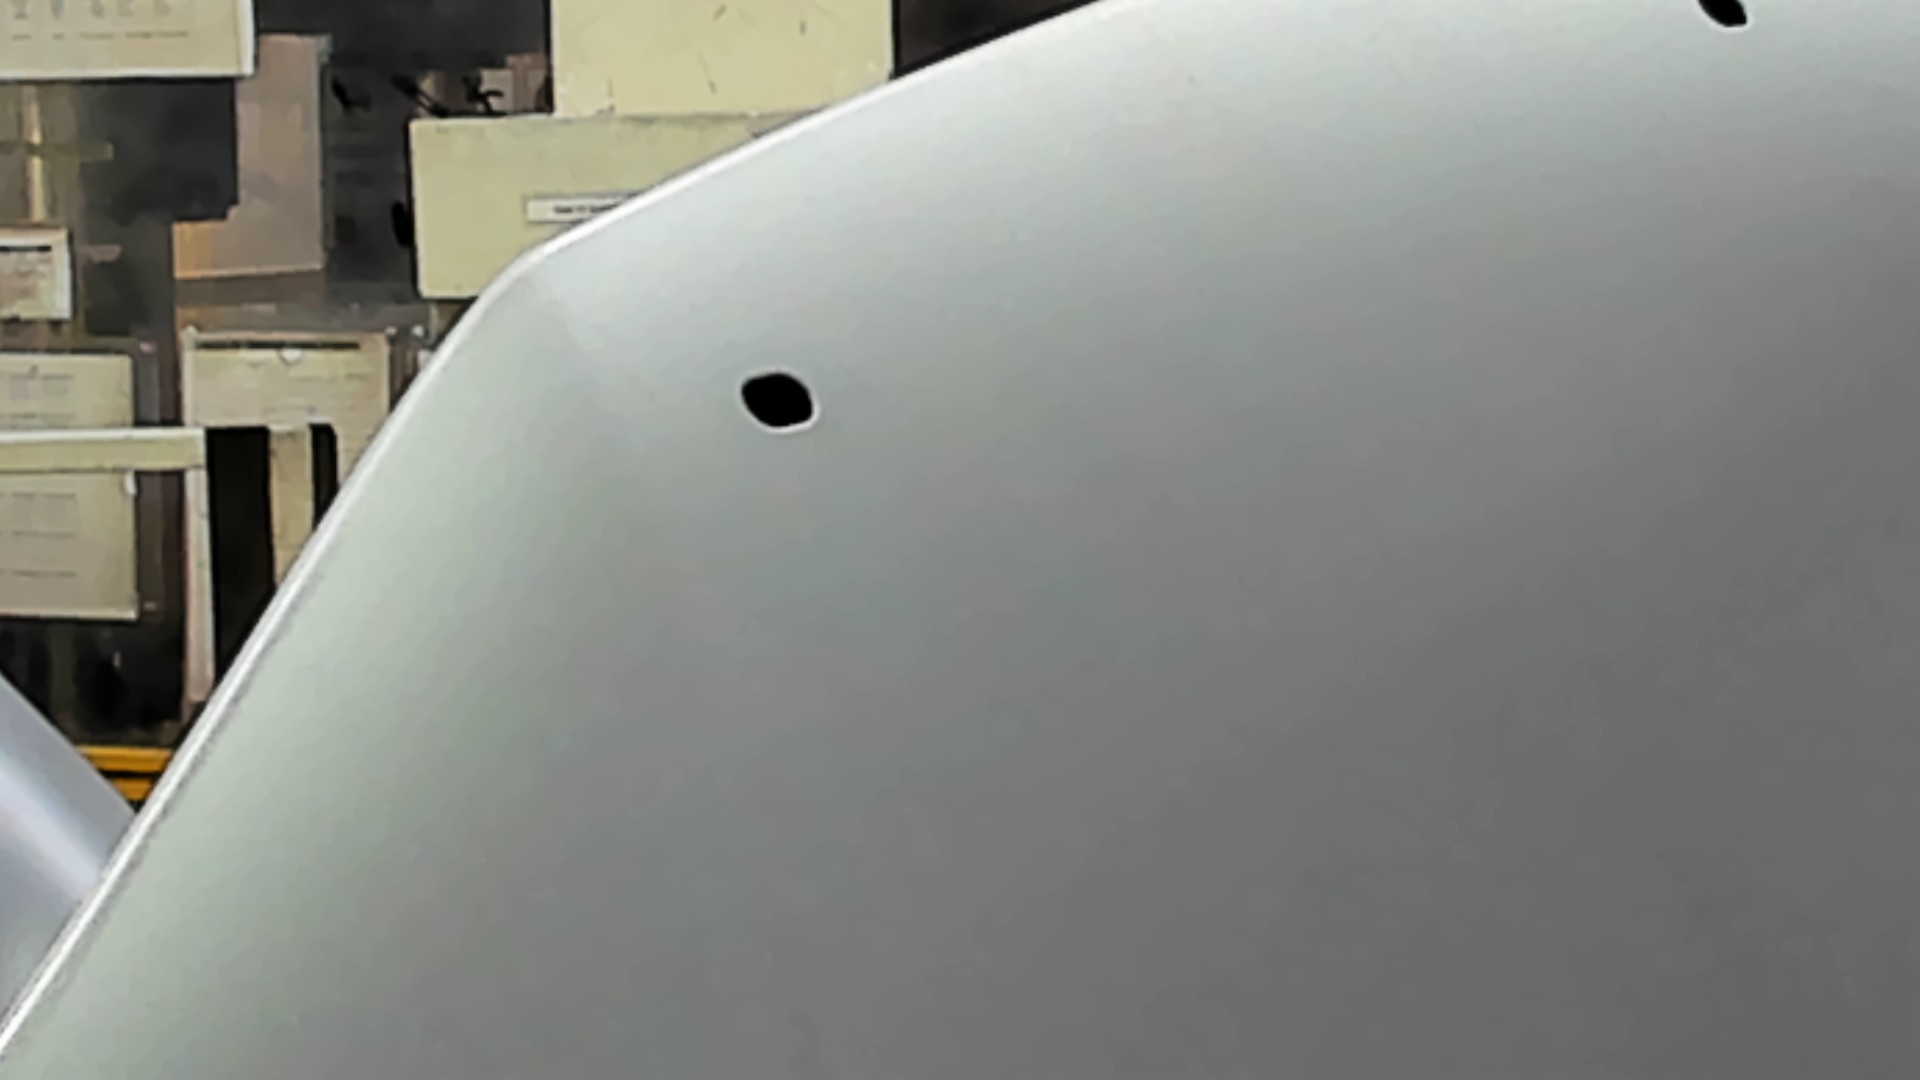amorfo: (735, 368, 823, 438), (1689, 1, 1756, 36)
